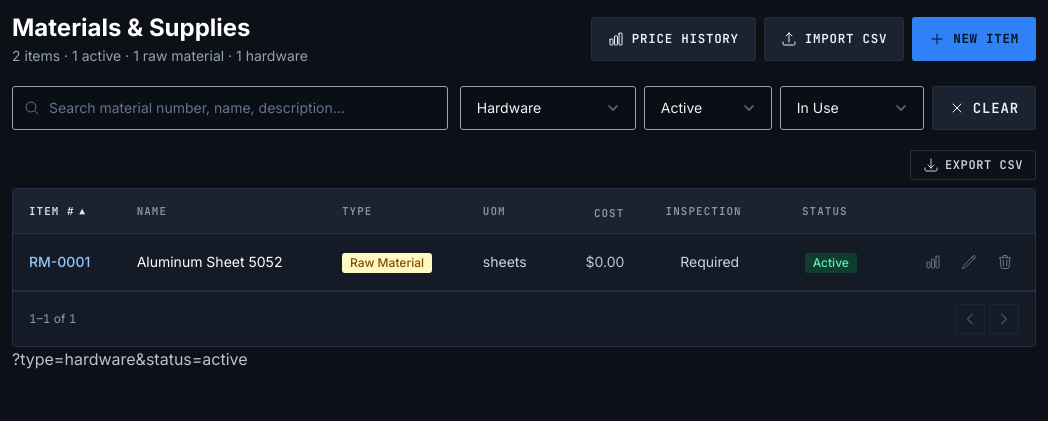
Test case: Materials — filters round-trip through URL params › Clear drops both params in a single update and returns to a clean URL
The width and height of the screenshot is (1048, 421).
Click the button "Clear" at (984, 108), box [932, 86, 1036, 130]
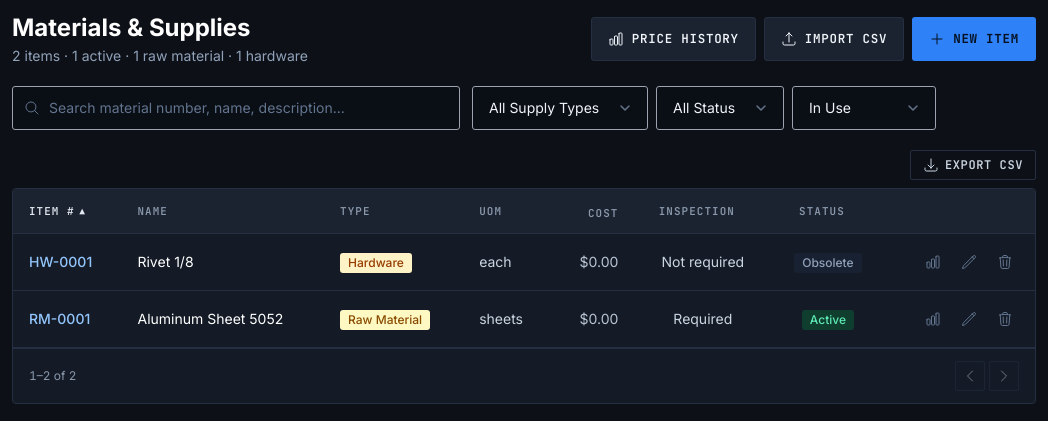
Expected: the dropdown named "Filter by type" shows "All Supply Types", [472, 86, 648, 130]
Expected: the dropdown named "Filter by status" shows "All Status", [656, 86, 784, 130]
